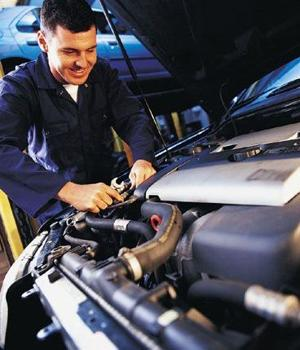person: (2, 1, 157, 229)
